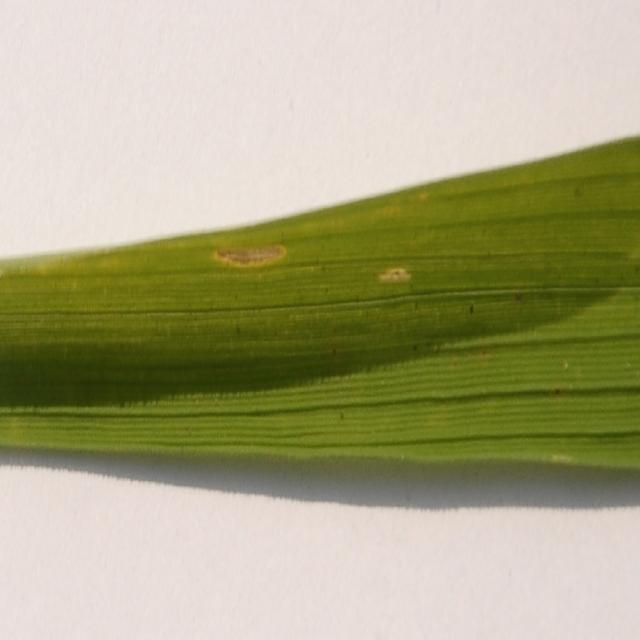leaf blight: (202, 229, 298, 286), (374, 256, 416, 296)
